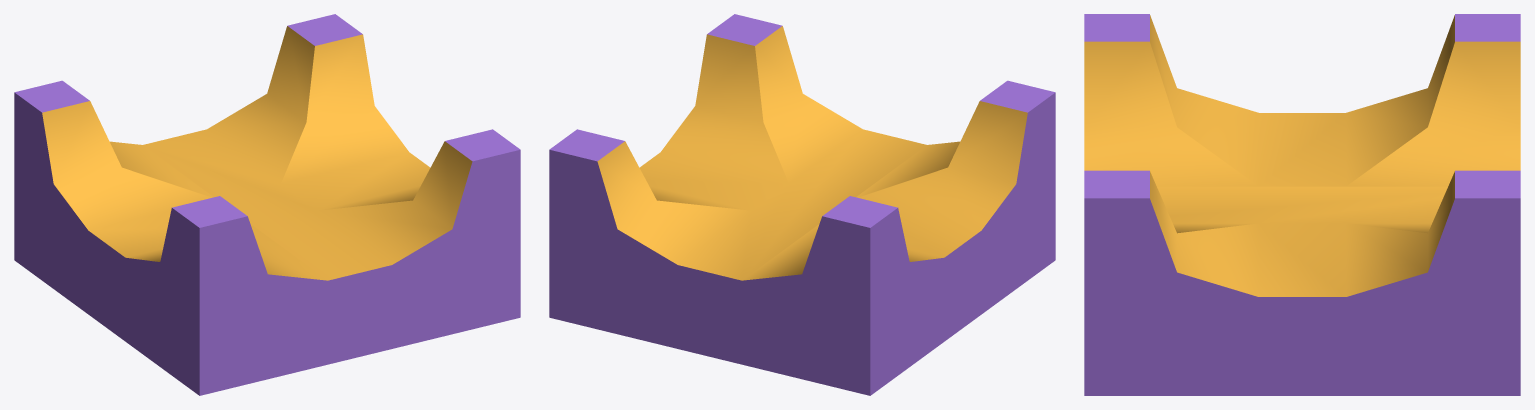
The model's file is cross.glb.
3 renders of one model, left to right at view 1: azimuth 30°, elevation 25°; view 2: azimuth 150°, elevation 25°; view 3: azimuth 270°, elevation 25°, orthographic. The views are drawn at different scales.
Parts seen in each view (by area): view 1: cross; view 2: cross; view 3: cross.
Boxes of the visible parts, x1,y1,x2,y2 form: cross: (14,14,520,395); cross: (549,14,1055,395); cross: (1084,14,1520,395).
Bounding box in the file's own units: 1 × 0.5001 × 1.
1 material, 1 textured.
